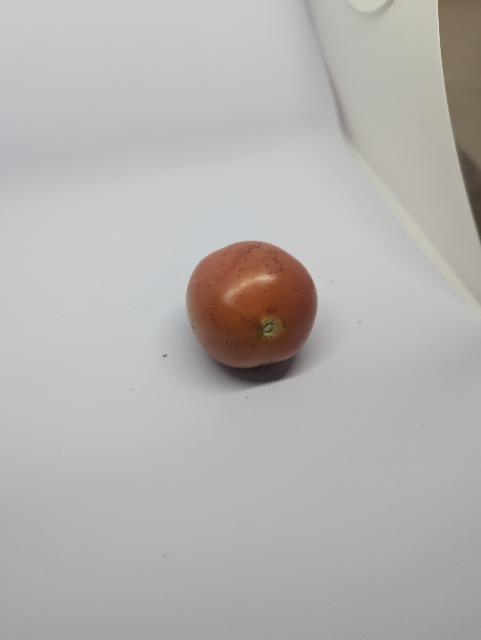red: (173, 222, 336, 388)
